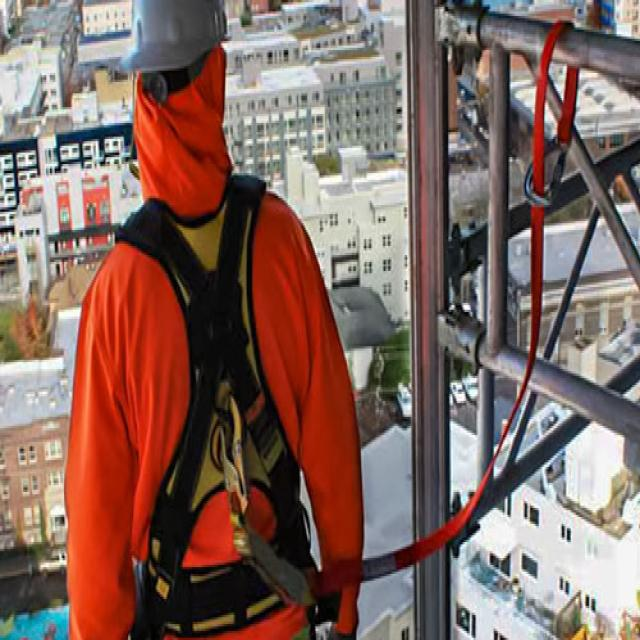harness: (211, 11, 588, 617)
